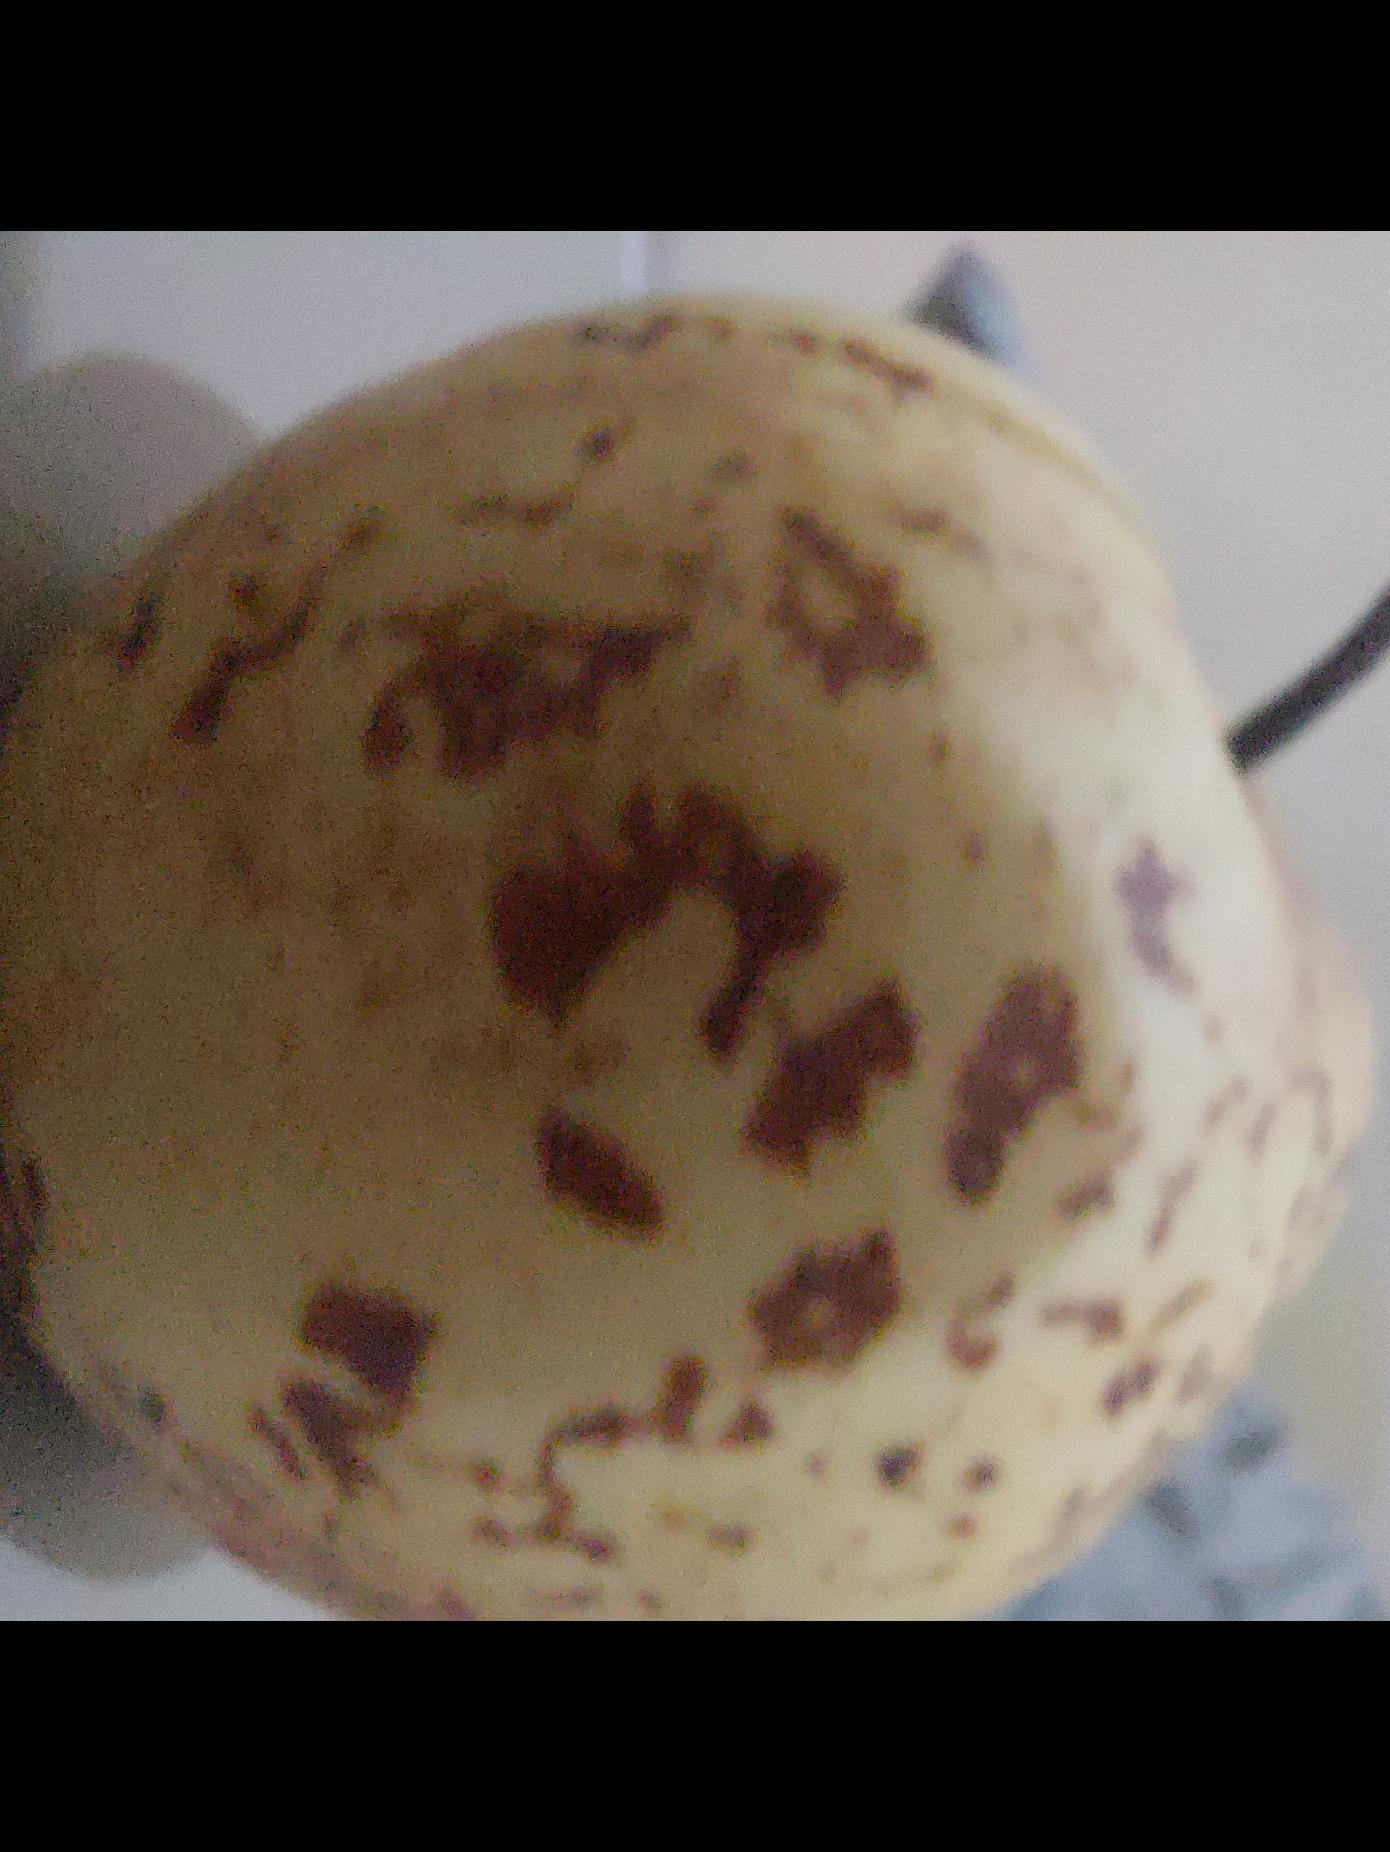Bad Pear: (0, 282, 1390, 1621)
